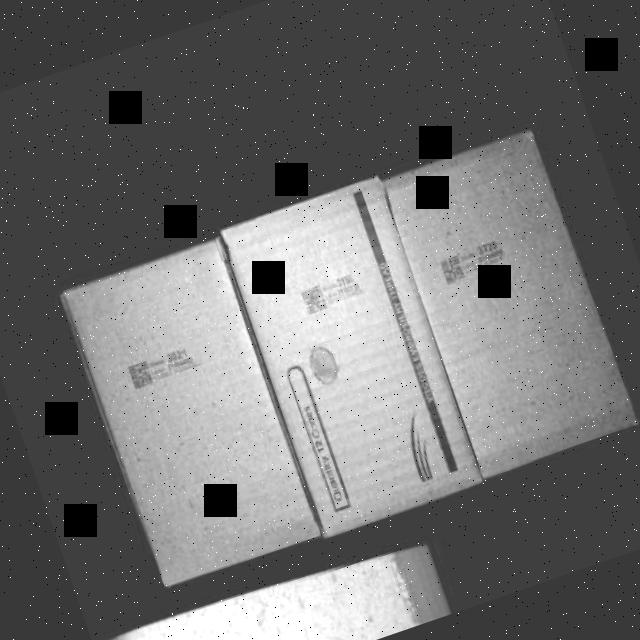box: (56, 223, 328, 595), (222, 178, 482, 533), (387, 130, 634, 468)
